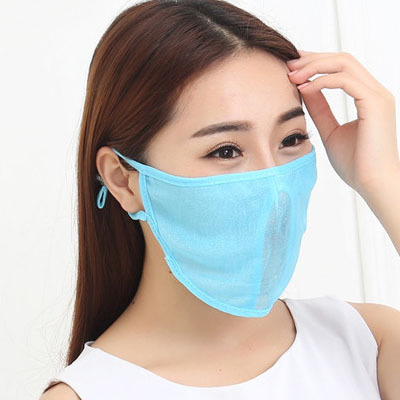face_mask: (145, 53, 311, 275)
